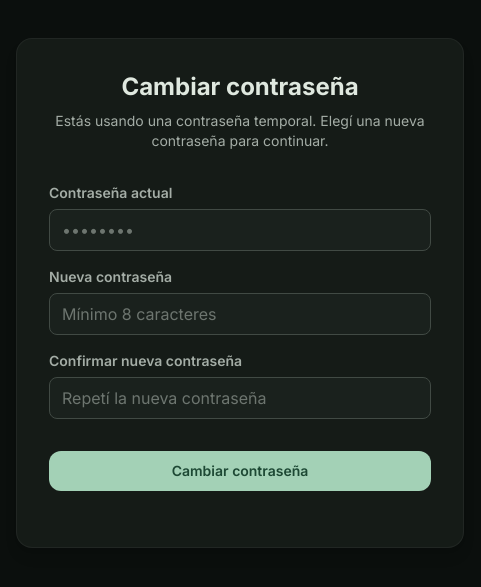
Test: ChangePasswordPage › validates password minimum length (<8 rechazada)
Type "oldPass123" into the password field labelled "Contraseña actual".
click(240, 230); type("oldPass123")  # box [49,209,431,251]
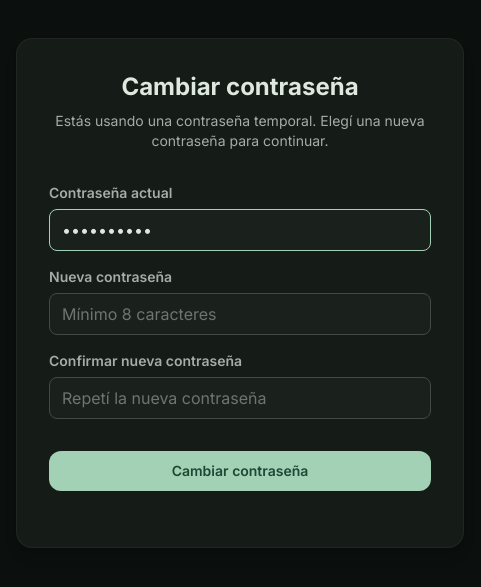
Type "short" into the password field labelled "Nueva contraseña".
click(240, 314); type("short")  # box [49,293,431,335]
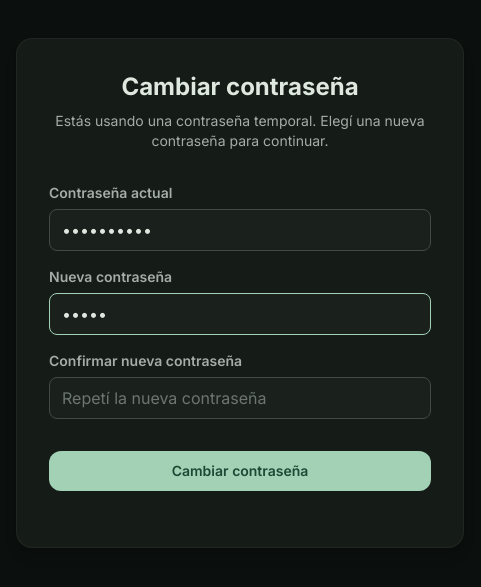
Click the button "Cambiar contraseña".
click(240, 471)  # box [49,451,431,491]
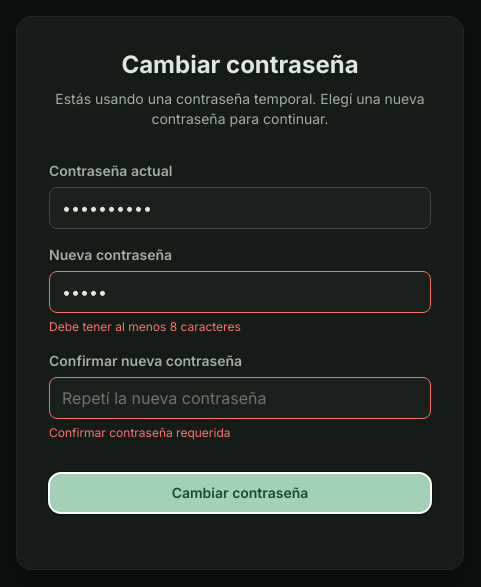
Expected: the text "Debe tener al menos 8 caracteres" is shown, [49,319,241,334]
